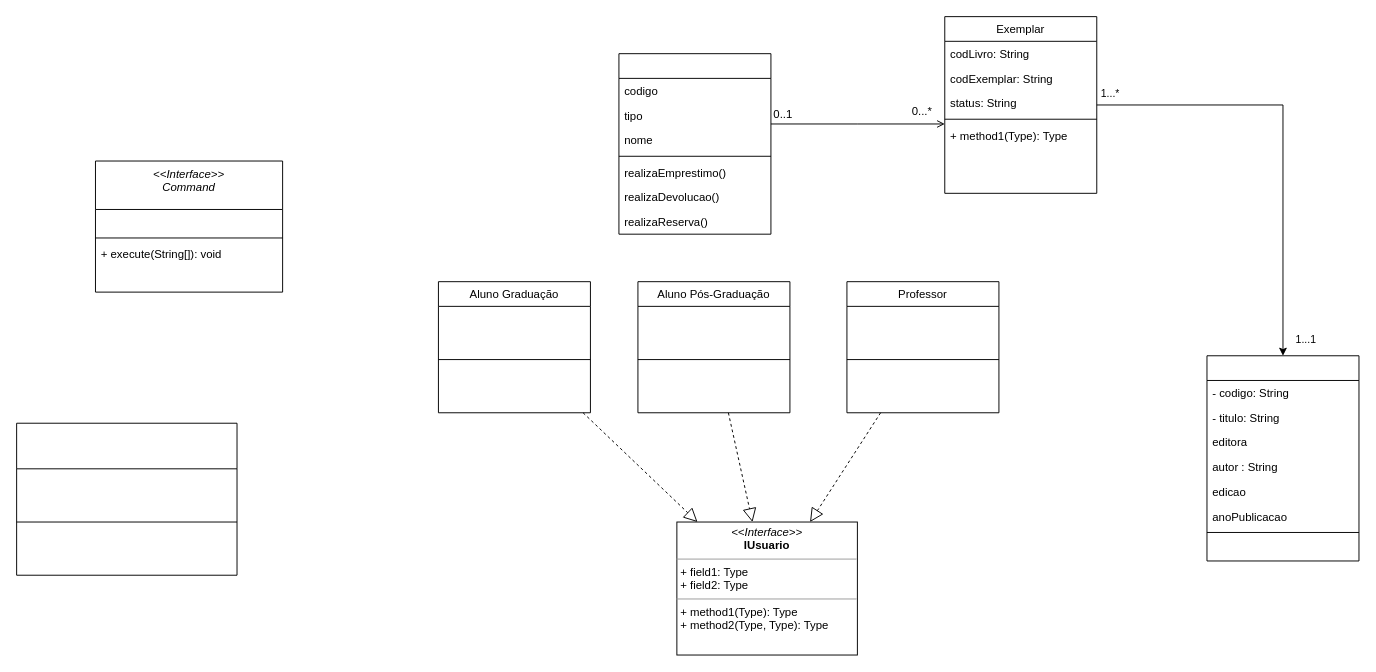
This 1376x672 diagram has some shape labels left out. The box of each missing label's shape, as (x1, y1, x2, y2) in pixels:
CommandAdicionarNovoObservador: (16, 422, 237, 575)
Livro: (1206, 355, 1359, 561)
Usuario: (618, 53, 771, 234)
